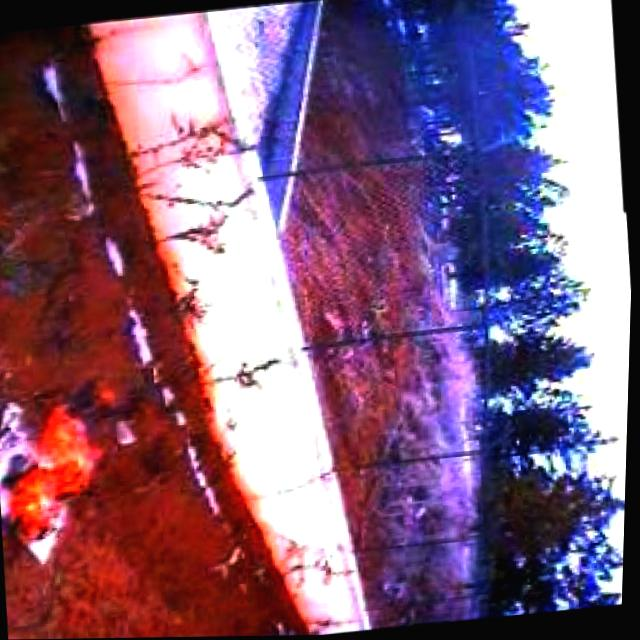Fire: (0, 380, 132, 550)
